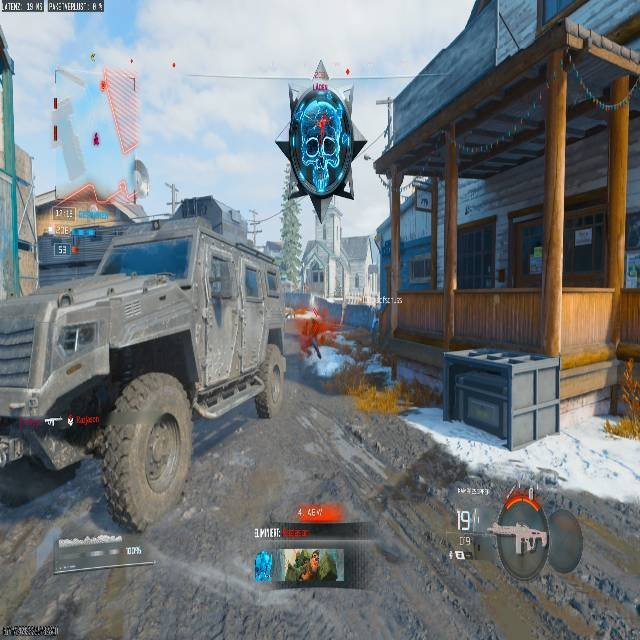player: (303, 313, 322, 359)
